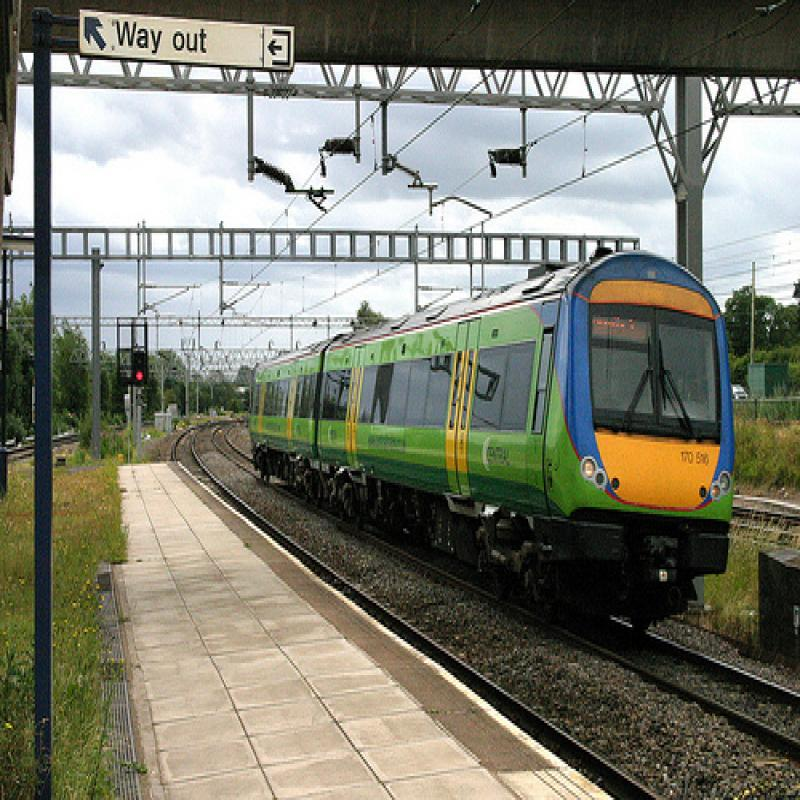train: (254, 251, 740, 638)
